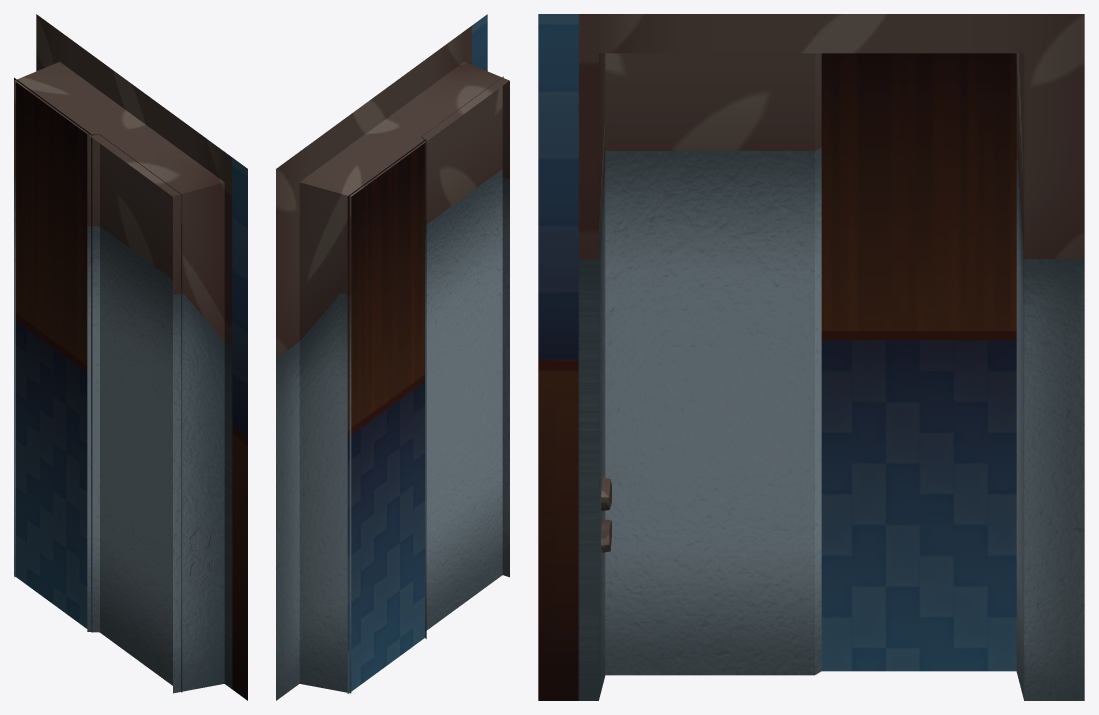
Rendered from Elevator.fbx.
The picture shows the model from 3 angles, left to right: view 1: azimuth 30°, elevation 25°; view 2: azimuth 150°, elevation 25°; view 3: azimuth 270°, elevation 25°; orthographic projection. The views are drawn at different scales.
Parts seen in each view (by area): view 1: Elevator; view 2: Elevator; view 3: Elevator.
Part boxes in pixels (x1,y1,x2,y2): Elevator: (14, 14, 247, 700); Elevator: (276, 14, 509, 700); Elevator: (538, 14, 1084, 700).
Bounding box in the file's own units: 29.35 × 300 × 216.
